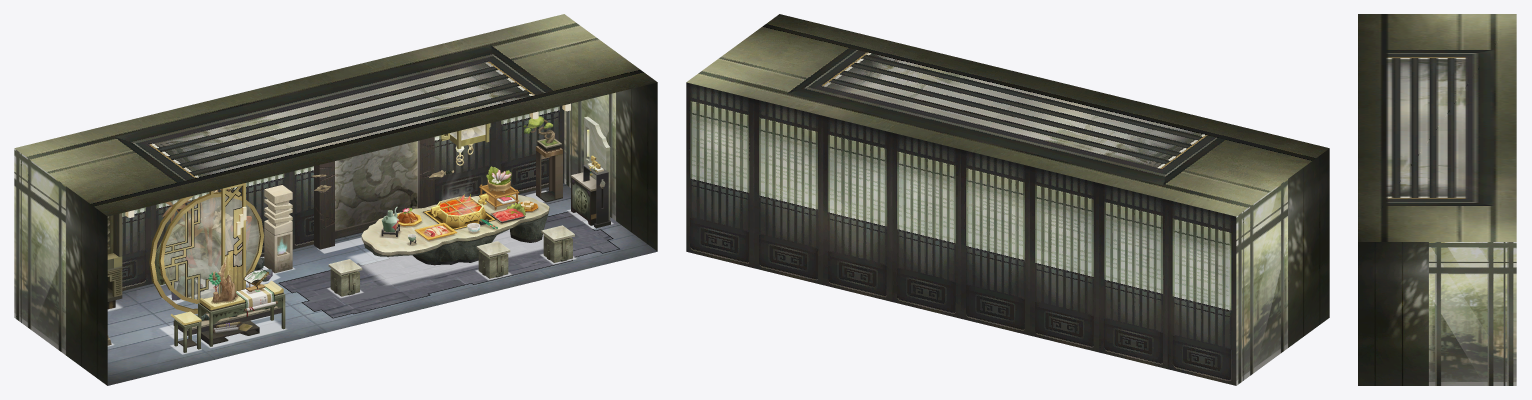
File: niansroom.glb
The picture shows the model from 3 angles, left to right: view 1: azimuth 30°, elevation 25°; view 2: azimuth 150°, elevation 25°; view 3: azimuth 270°, elevation 25°; orthographic projection. The views are drawn at different scales.
Visible parts, largest first — view 1: ROOM_room, ROOM_floor, furni_niansroom_carpet_01, furni_niansroom_hotpottable_01, furni_niansroom_dragoncutoff_01, furni_niansroom_decogroup_01, furni_niansroom_screen_03, furni_niansroom_screen_01, furni_niansroom_cutoff_01, furni_niansroom_longtable_01, furni_niansroom_dragoncutoff_02, shadow_01.007 (+16 smaller); view 2: ROOM_room, ROOM_LDoor; view 3: ROOM_room, ROOM_RDoor.
Boxes of the visible parts, bbox=[...] form: ROOM_room: bbox=[14, 14, 657, 385]; ROOM_floor: bbox=[107, 183, 657, 385]; furni_niansroom_carpet_01: bbox=[278, 211, 619, 318]; furni_niansroom_hotpottable_01: bbox=[361, 184, 549, 265]; furni_niansroom_dragoncutoff_01: bbox=[335, 141, 417, 238]; furni_niansroom_decogroup_01: bbox=[154, 185, 292, 300]; furni_niansroom_screen_03: bbox=[164, 196, 259, 299]; furni_niansroom_screen_01: bbox=[149, 183, 281, 335]; furni_niansroom_cutoff_01: bbox=[571, 116, 610, 228]; furni_niansroom_longtable_01: bbox=[198, 256, 285, 346]; furni_niansroom_dragoncutoff_02: bbox=[314, 137, 434, 249]; shadow_01.007: bbox=[348, 229, 543, 285]; ROOM_room: bbox=[686, 14, 1329, 385]; ROOM_LDoor: bbox=[1297, 251, 1315, 341]; ROOM_room: bbox=[1358, 14, 1516, 385]; ROOM_RDoor: bbox=[1381, 320, 1413, 385].
Size of the model in its own units: 7.48 by 2.2 by 2.22.
7 materials, 7 textured.
